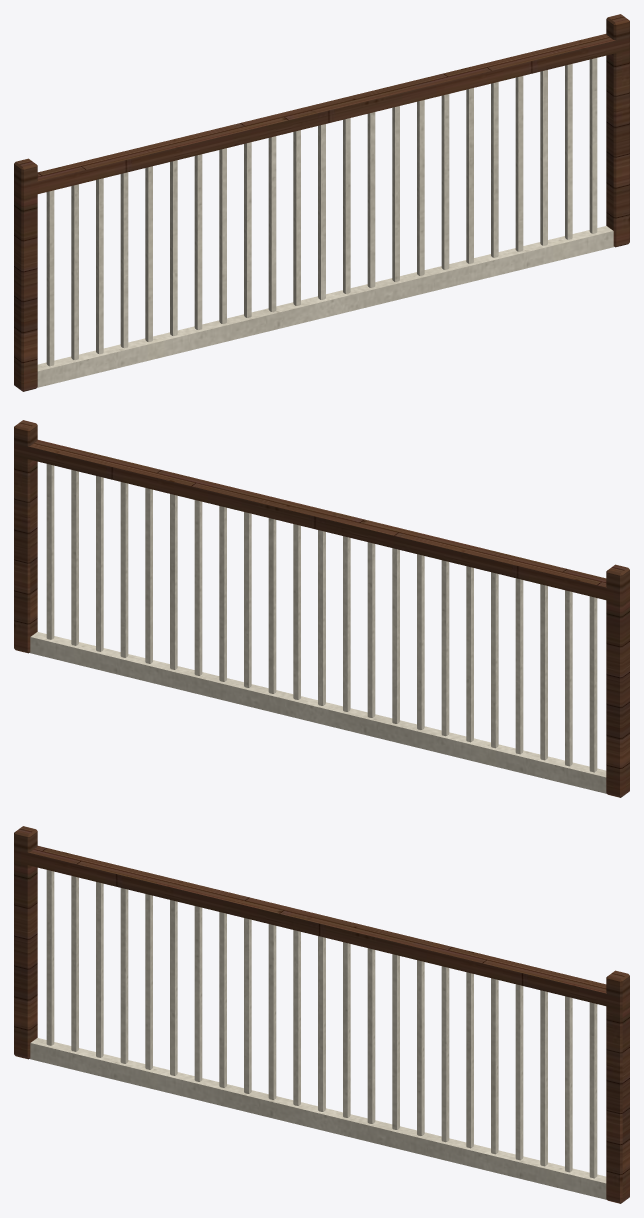
Rendered from rail_292.glb.
The picture shows the model from 3 angles, top to bottom: view 1: azimuth 30°, elevation 25°; view 2: azimuth 150°, elevation 25°; view 3: azimuth 330°, elevation 25°; orthographic projection.
Visible parts, largest first — view 1: rail_292_trim, rail_292_wood; view 2: rail_292_trim, rail_292_wood; view 3: rail_292_trim, rail_292_wood.
Part boxes in pixels (left/top/right/bottom): rail_292_trim: left=37, top=58, right=614, bottom=387; rail_292_wood: left=14, top=14, right=629, bottom=391; rail_292_trim: left=29, top=464, right=606, bottom=793; rail_292_wood: left=14, top=420, right=629, bottom=797; rail_292_trim: left=29, top=870, right=606, bottom=1199; rail_292_wood: left=14, top=826, right=629, bottom=1203.
Size of the model in its own units: 3 by 1.06 by 0.08.
2 materials, 2 textured.
